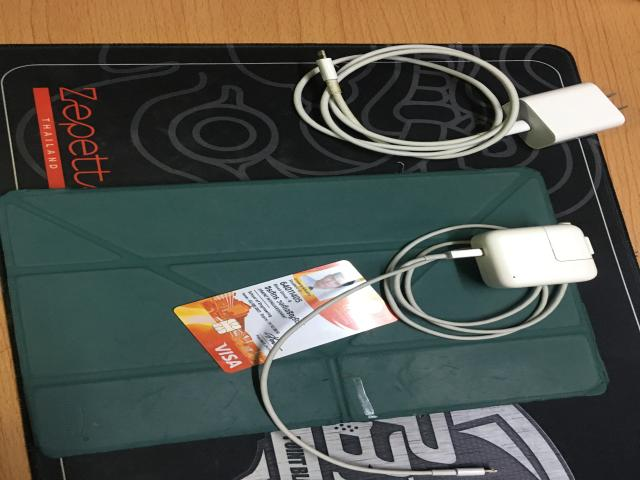wire: (260, 222, 601, 476), (293, 44, 625, 159)
